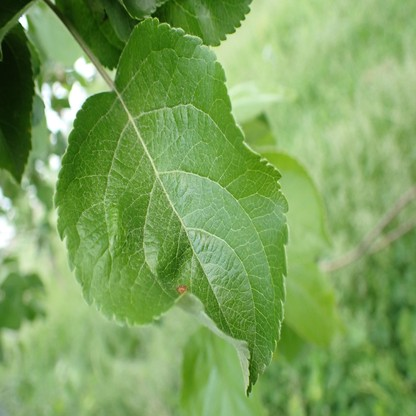frogeye_leaf_spot: (175, 284, 187, 294)
